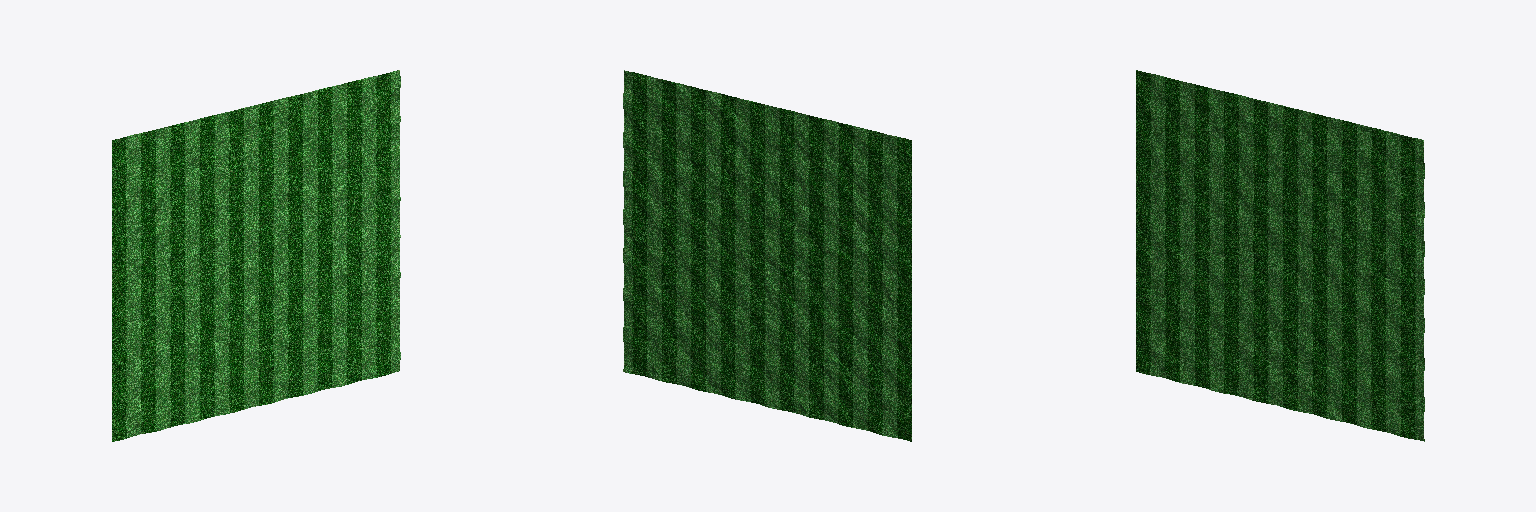
The picture shows the model from 3 angles: view 1: azimuth 30°, elevation 25°; view 2: azimuth 150°, elevation 25°; view 3: azimuth 330°, elevation 25°; orthographic projection.
Visible parts, largest first — view 1: Terrain; view 2: Terrain; view 3: Terrain.
Boxes of the visible parts, x1=… form: Terrain: x1=112, y1=70, x2=400, y2=441; Terrain: x1=623, y1=70, x2=911, y2=441; Terrain: x1=1136, y1=70, x2=1424, y2=441.
Size of the model in its own units: 9.8 by 9.8 by 0.0845.
Materials: 1 (1 with a texture image).